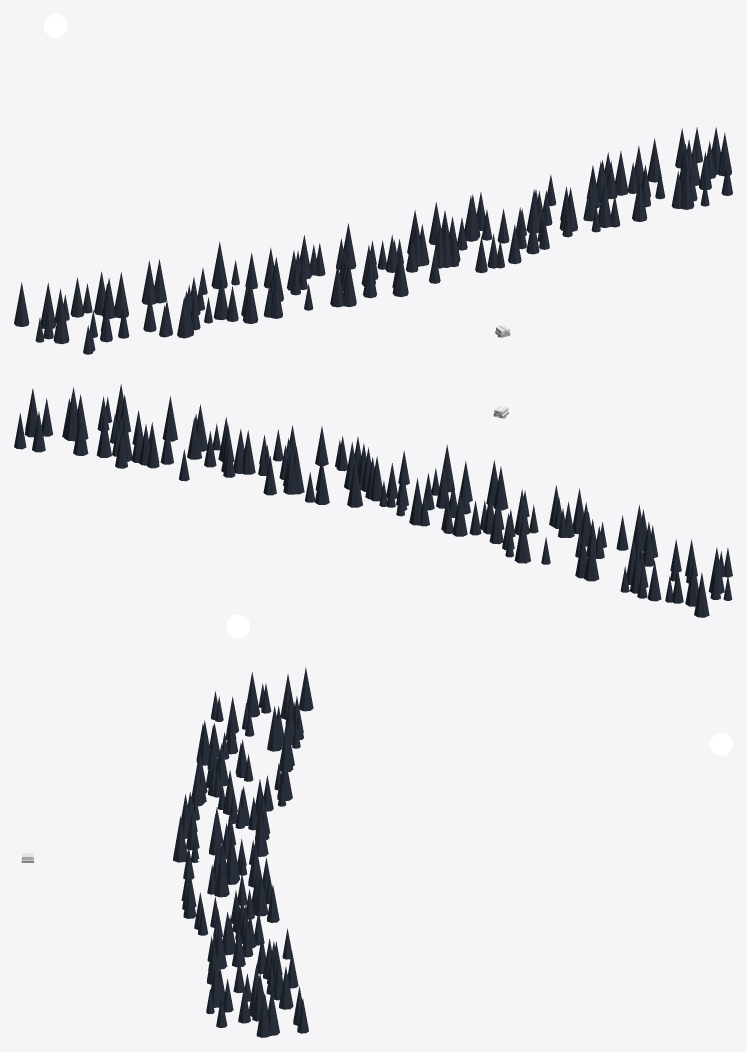
The model's file is snow.glb.
3 views of the same model, one above another, from view 1: azimuth 30°, elevation 25°; view 2: azimuth 150°, elevation 25°; view 3: azimuth 270°, elevation 25° (orthographic). The views are drawn at different scales.
Parts seen in each view (by area): view 1: no part large enough to name; view 2: Moon, tree_-31; view 3: no part large enough to name.
Part boxes in pixels (x1,y1,x2,y2): Moon: (226,614,249,638); tree_-31: (514,515,530,563).
Size of what is drawn, in the model's own units: 341 by 43.9 by 311.
